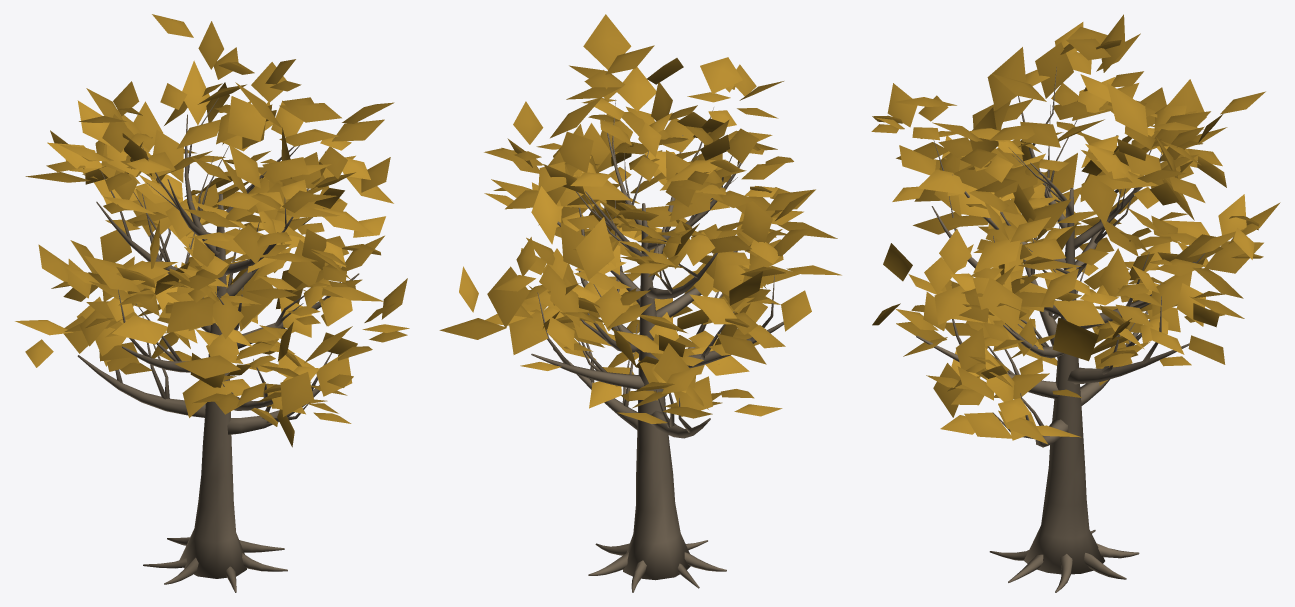
Rendered from broadleaf_autumn_lod.glb.
3 renders of one model, left to right at view 1: azimuth 30°, elevation 25°; view 2: azimuth 150°, elevation 25°; view 3: azimuth 270°, elevation 25°, orthographic. The views are drawn at different scales.
Visible parts, largest first — view 1: broadleaf_autumn_lod_leaves.001, broadleaf_autumn_lod_bark.001; view 2: broadleaf_autumn_lod_leaves.001, broadleaf_autumn_lod_bark.001; view 3: broadleaf_autumn_lod_leaves.001, broadleaf_autumn_lod_bark.001.
Boxes of the visible parts, left/top/right/bottom form: broadleaf_autumn_lod_leaves.001: left=15, top=14, right=409, bottom=447; broadleaf_autumn_lod_bark.001: left=77, top=98, right=359, bottom=592; broadleaf_autumn_lod_leaves.001: left=439, top=14, right=841, bottom=423; broadleaf_autumn_lod_bark.001: left=531, top=99, right=783, bottom=592; broadleaf_autumn_lod_leaves.001: left=871, top=14, right=1280, bottom=444; broadleaf_autumn_lod_bark.001: left=916, top=67, right=1204, bottom=592.
Size of the model in its own units: 10.63 by 15.56 by 11.2.
